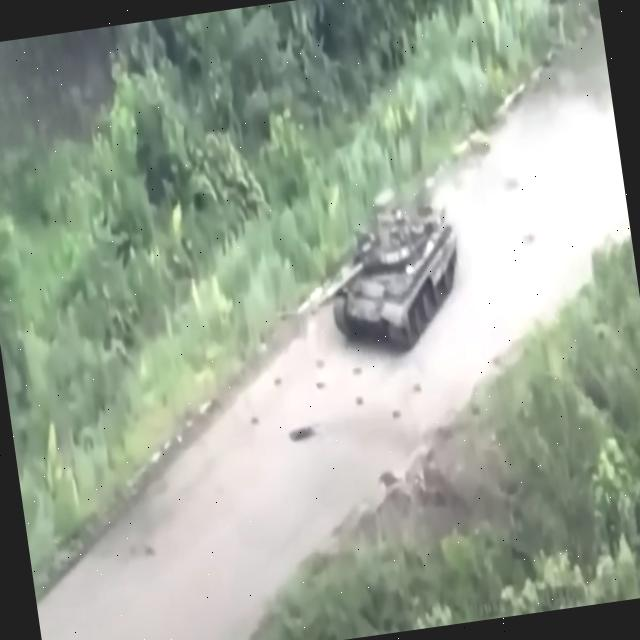MBT: (296, 188, 474, 371)
